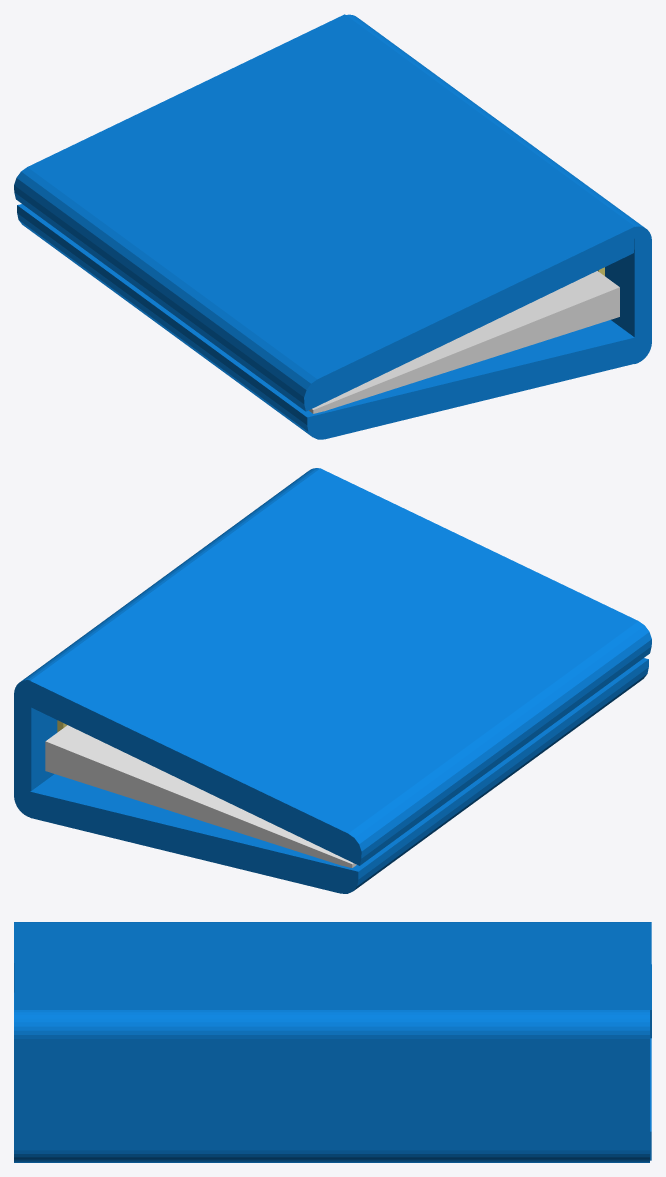
Rendered from Carpeta.fbx.
The picture shows the model from 3 angles, top to bottom: view 1: azimuth 30°, elevation 25°; view 2: azimuth 150°, elevation 25°; view 3: azimuth 270°, elevation 25°; orthographic projection. The views are drawn at different scales.
Parts seen in each view (by area): view 1: Cube.002, Cube; view 2: Cube.002, Cube; view 3: Cube.002.
Boxes of the visible parts, x1=… form: Cube.002: x1=14, y1=14, x2=651, y2=439; Cube: x1=309, y1=271, x2=619, y2=413; Cube.002: x1=14, y1=468, x2=651, y2=893; Cube: x1=45, y1=725, x2=356, y2=867; Cube.002: x1=14, y1=922, x2=651, y2=1162.
Size of the model in its own units: 31.28 by 11.81 by 45.2.
